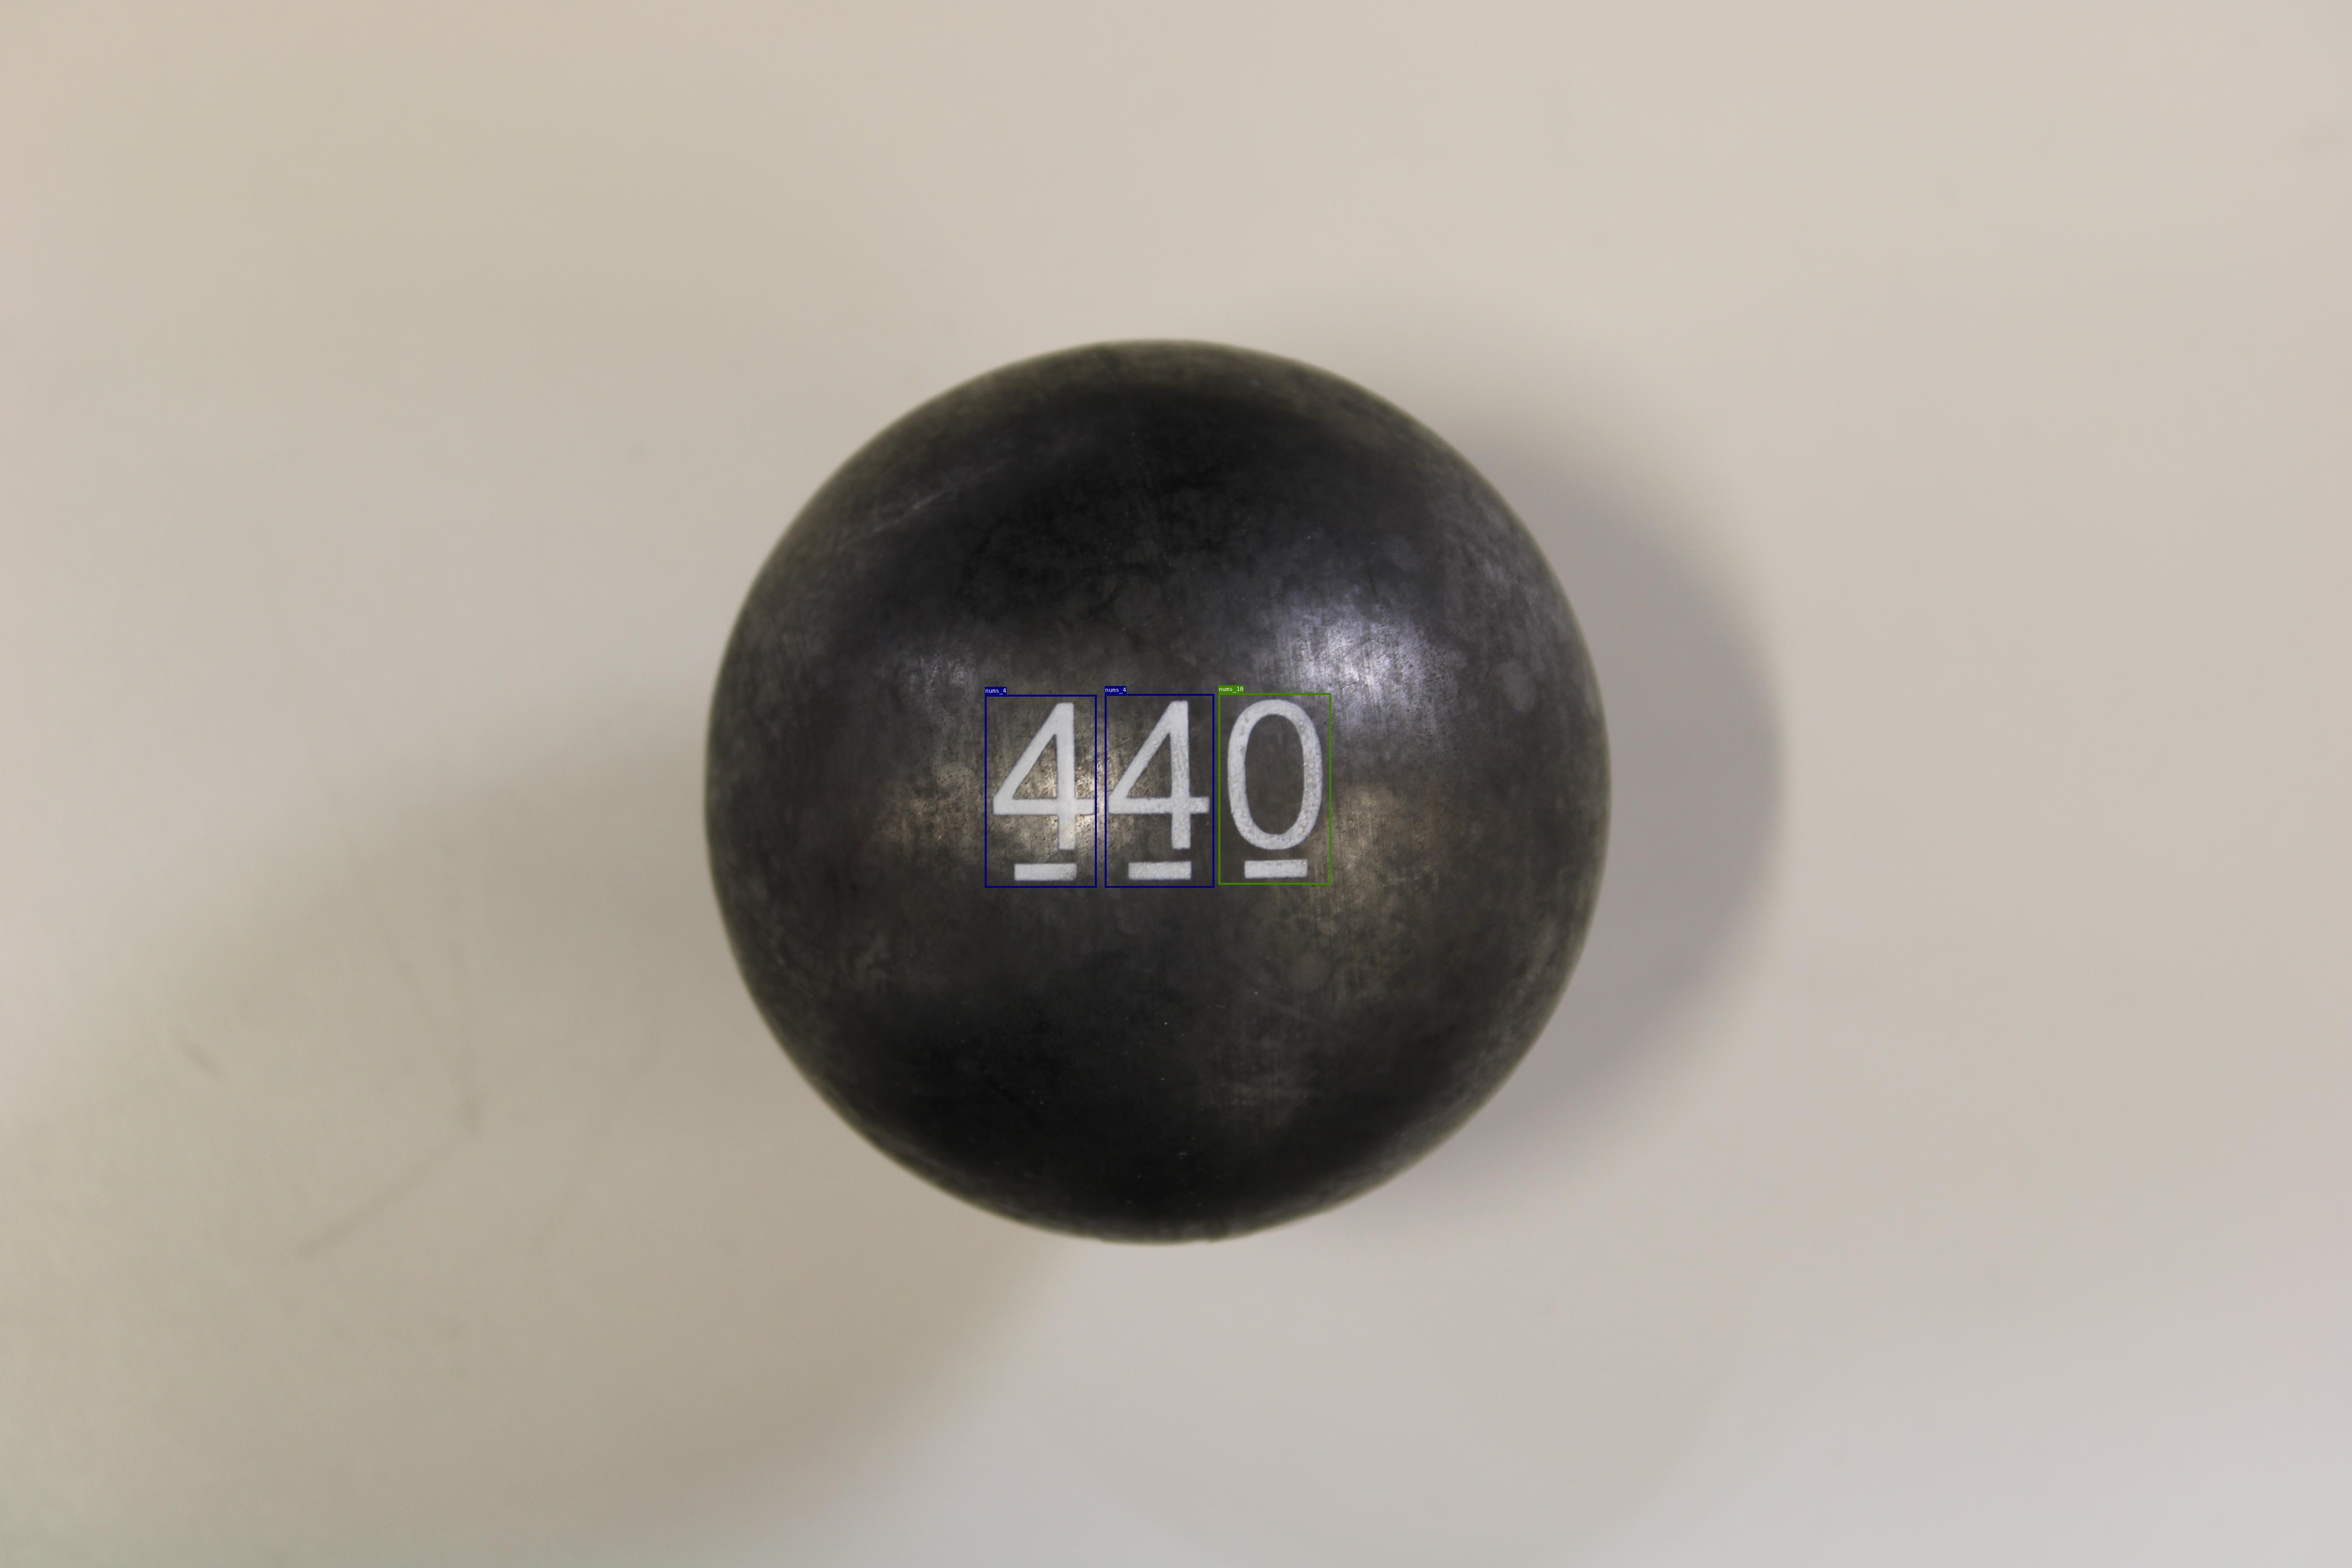nums_10: (1218, 693, 1330, 884)
nums_4: (985, 695, 1097, 887), (1104, 693, 1214, 887)
